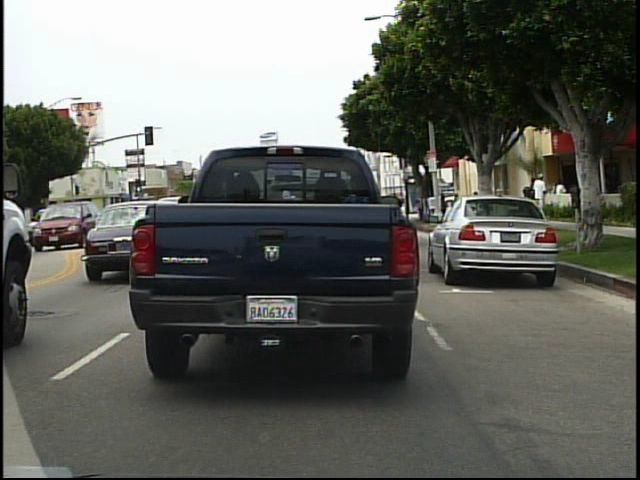person: (530, 173, 554, 223), (549, 176, 572, 222)
